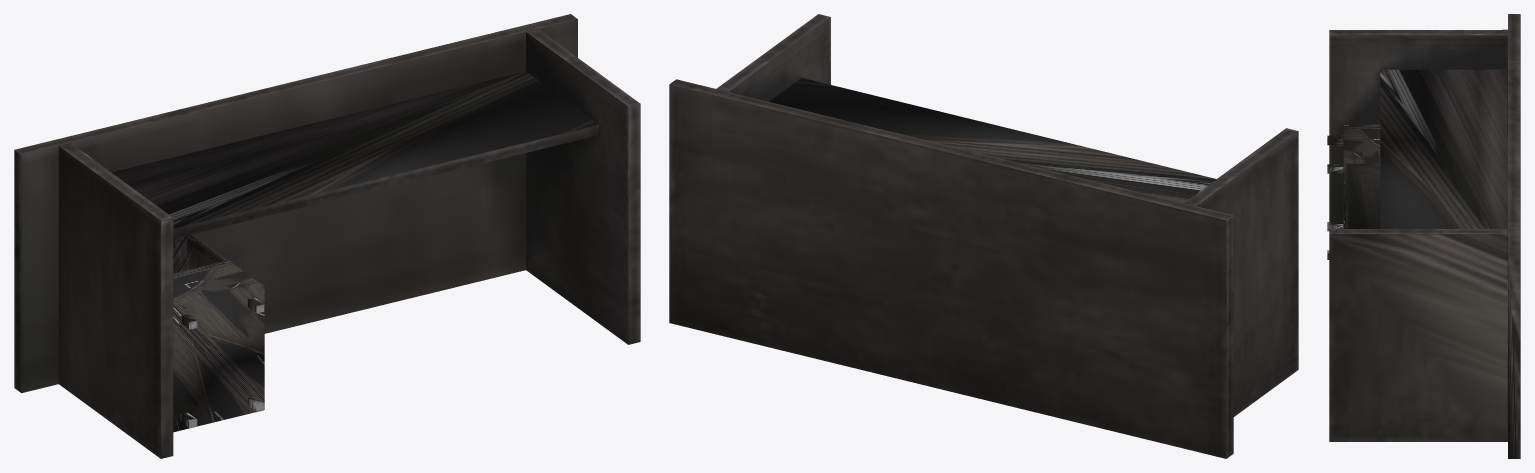
The model's file is office_desk.glb.
3 renders of one model, left to right at view 1: azimuth 30°, elevation 25°; view 2: azimuth 150°, elevation 25°; view 3: azimuth 270°, elevation 25°, orthographic. The views are drawn at different scales.
Parts seen in each view (by area): view 1: office_desk; view 2: office_desk; view 3: office_desk.
Part boxes in pixels (x1=…): office_desk: x1=14, y1=14, x2=640, y2=458; office_desk: x1=669, y1=14, x2=1298, y2=458; office_desk: x1=1327, y1=14, x2=1520, y2=458.
Size of the model in its own units: 1.9 by 0.7773 by 0.6541.
Materials: 1 (1 with a texture image).
